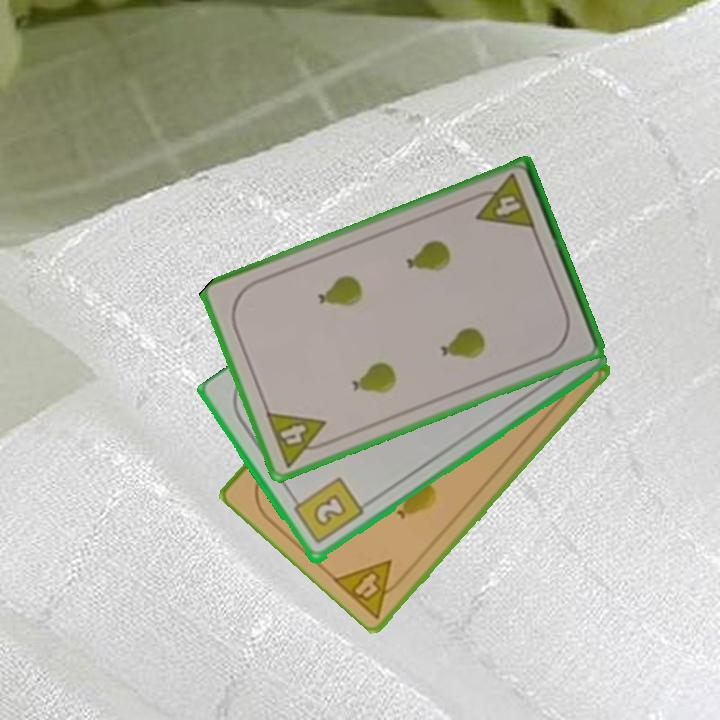2b: (287, 474, 366, 547)
4p: (329, 556, 412, 621), (262, 408, 336, 471), (466, 171, 538, 233)
